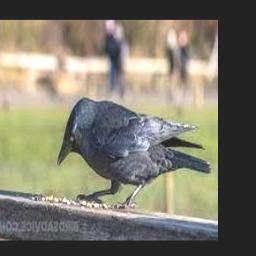Crow: (57, 97, 212, 209)
